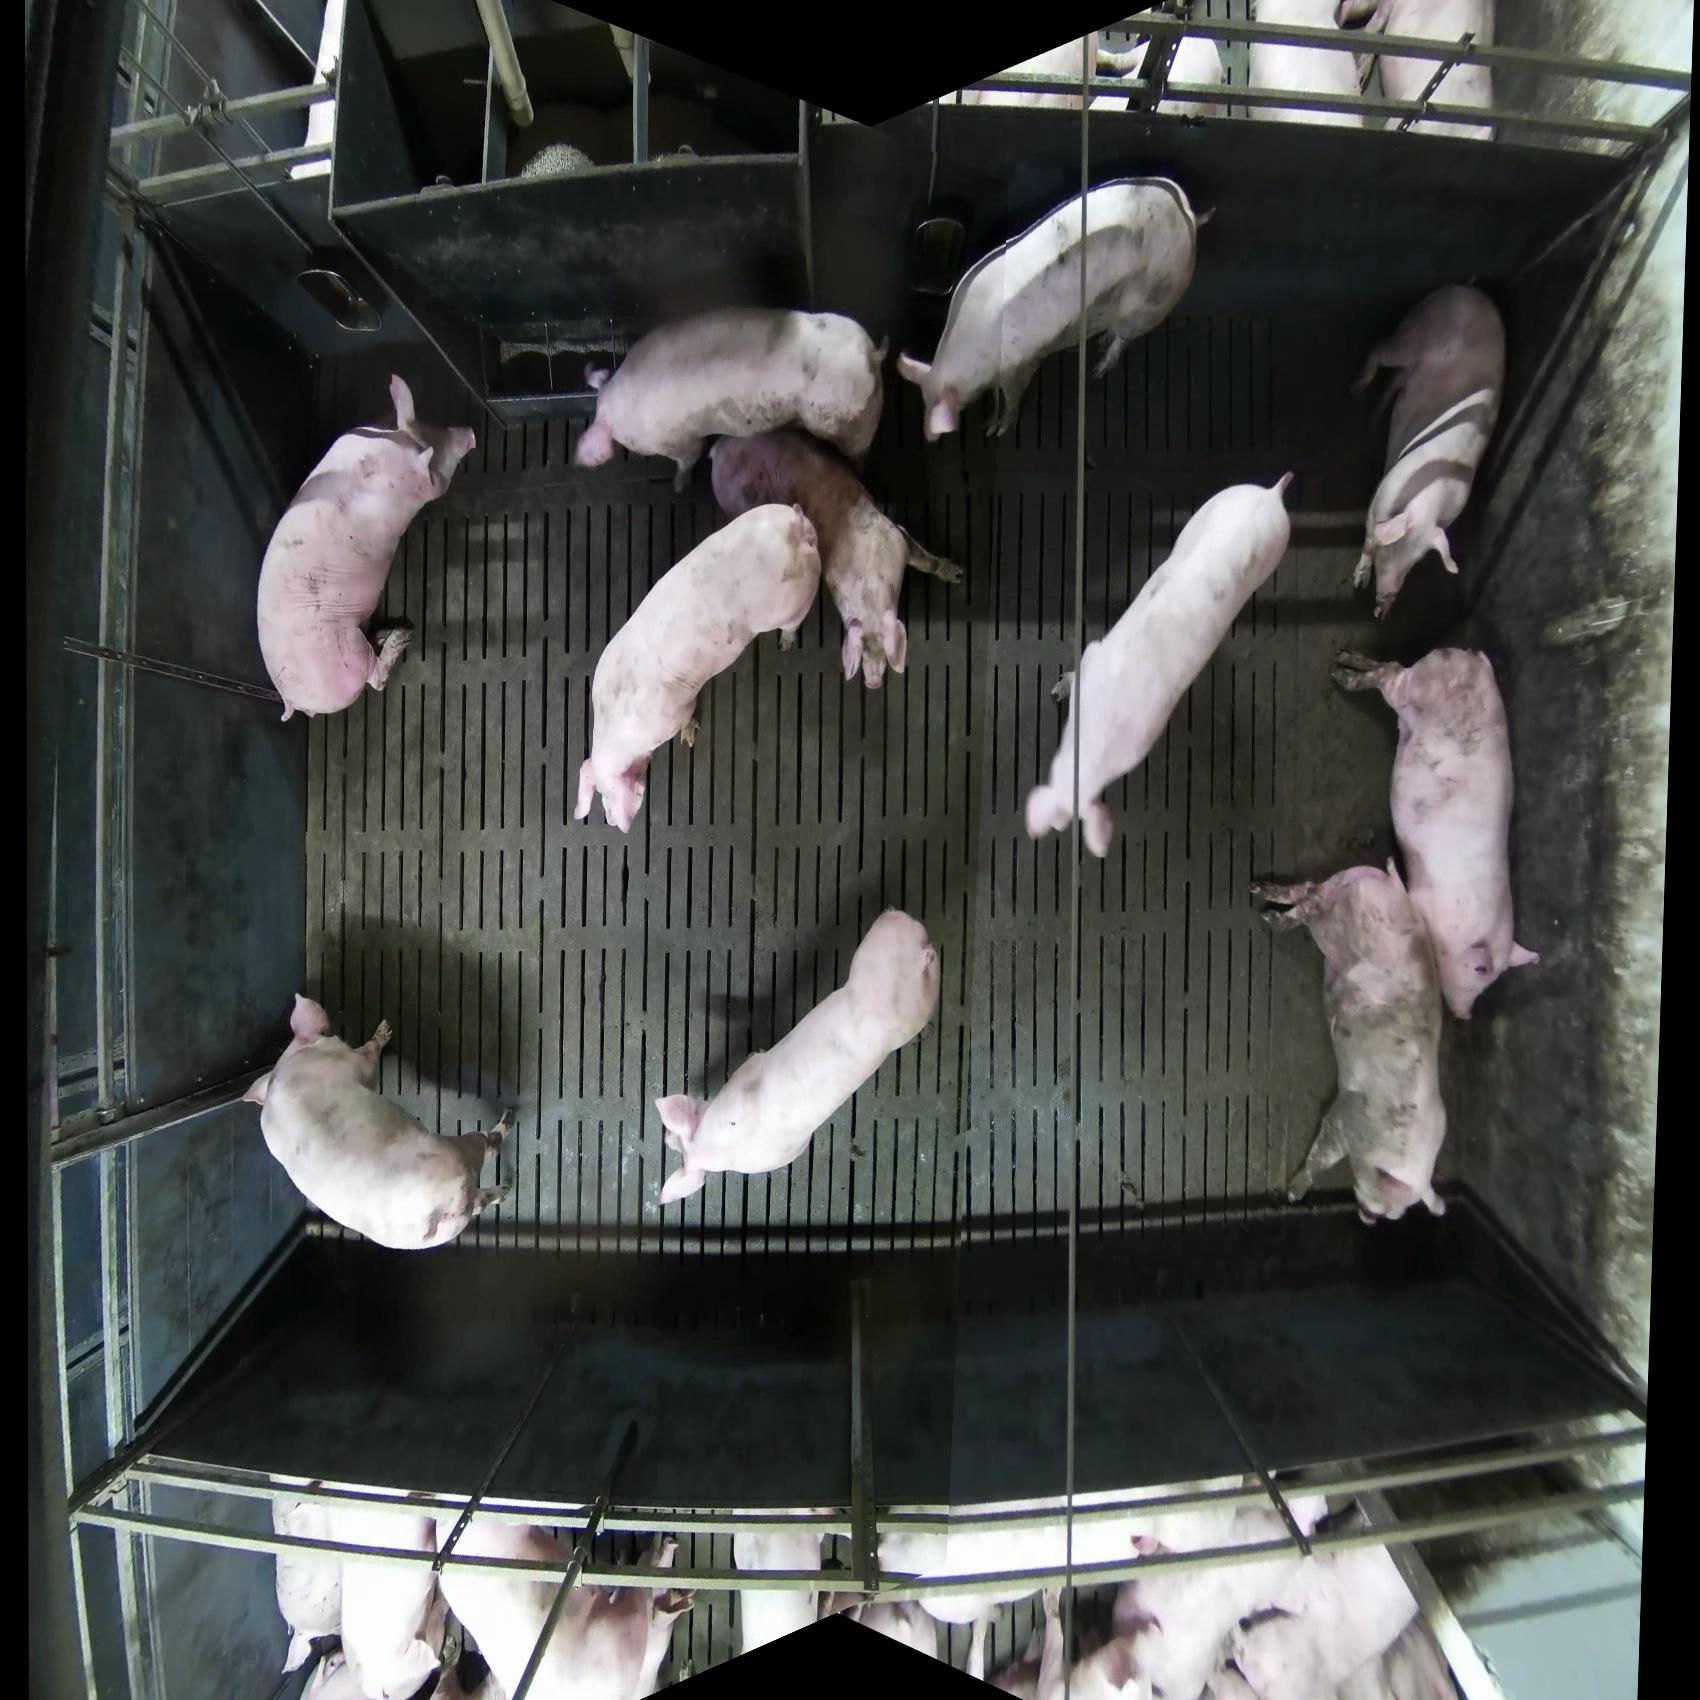pig: (1024, 470, 1297, 859), (652, 908, 942, 1207), (897, 174, 1203, 448), (571, 500, 822, 833), (1329, 643, 1541, 1021), (1077, 1496, 1459, 1700), (255, 374, 476, 722), (1249, 858, 1451, 1227), (241, 992, 515, 1252), (707, 427, 967, 693), (570, 305, 887, 493), (1348, 282, 1507, 624), (436, 1512, 697, 1698), (271, 1491, 448, 1700), (732, 1524, 947, 1675), (1336, 2, 1498, 142), (1249, 2, 1381, 128), (732, 1526, 841, 1656), (1098, 26, 1227, 121)
